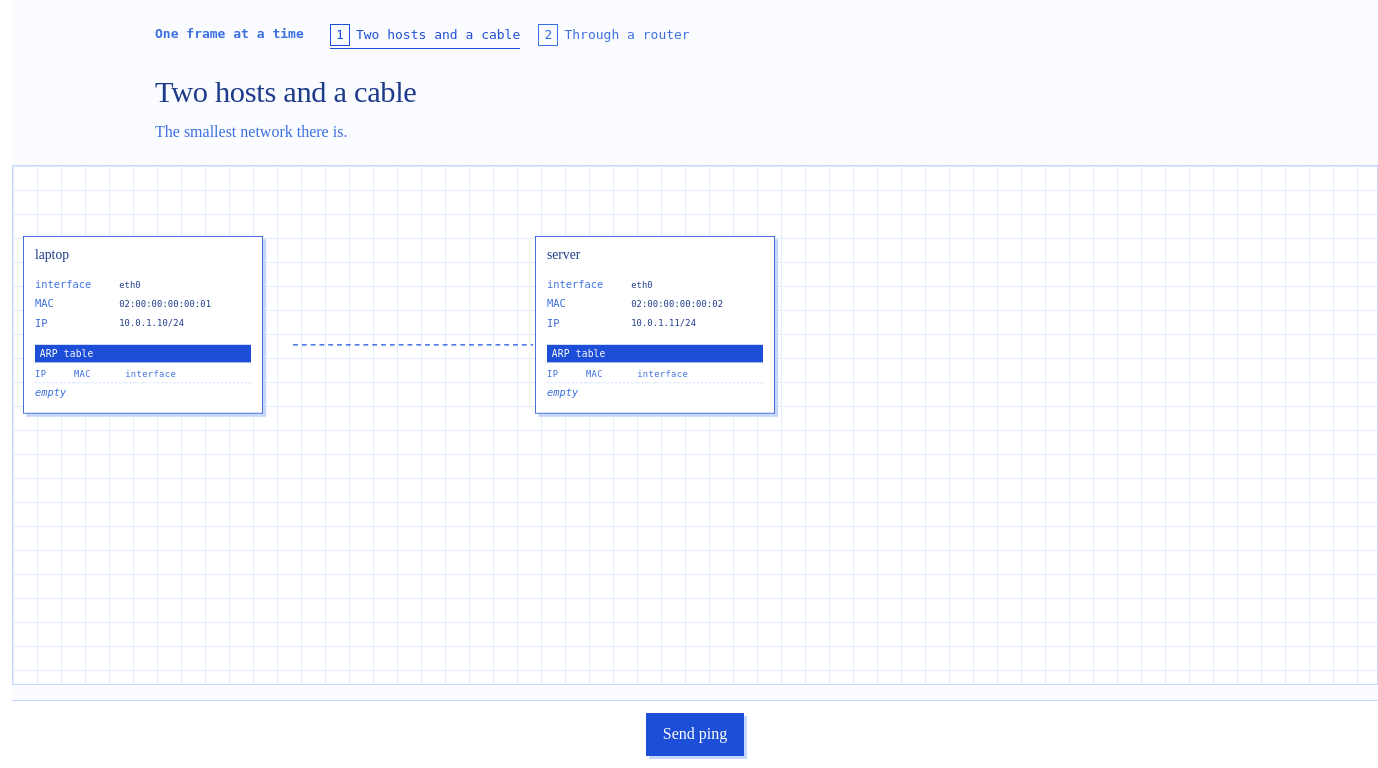
Test: lesson 1 › steps through turns with narration keyed by event kind
Click the button "Send ping" at {"x": 695, "y": 735}, box [646,713,744,756]
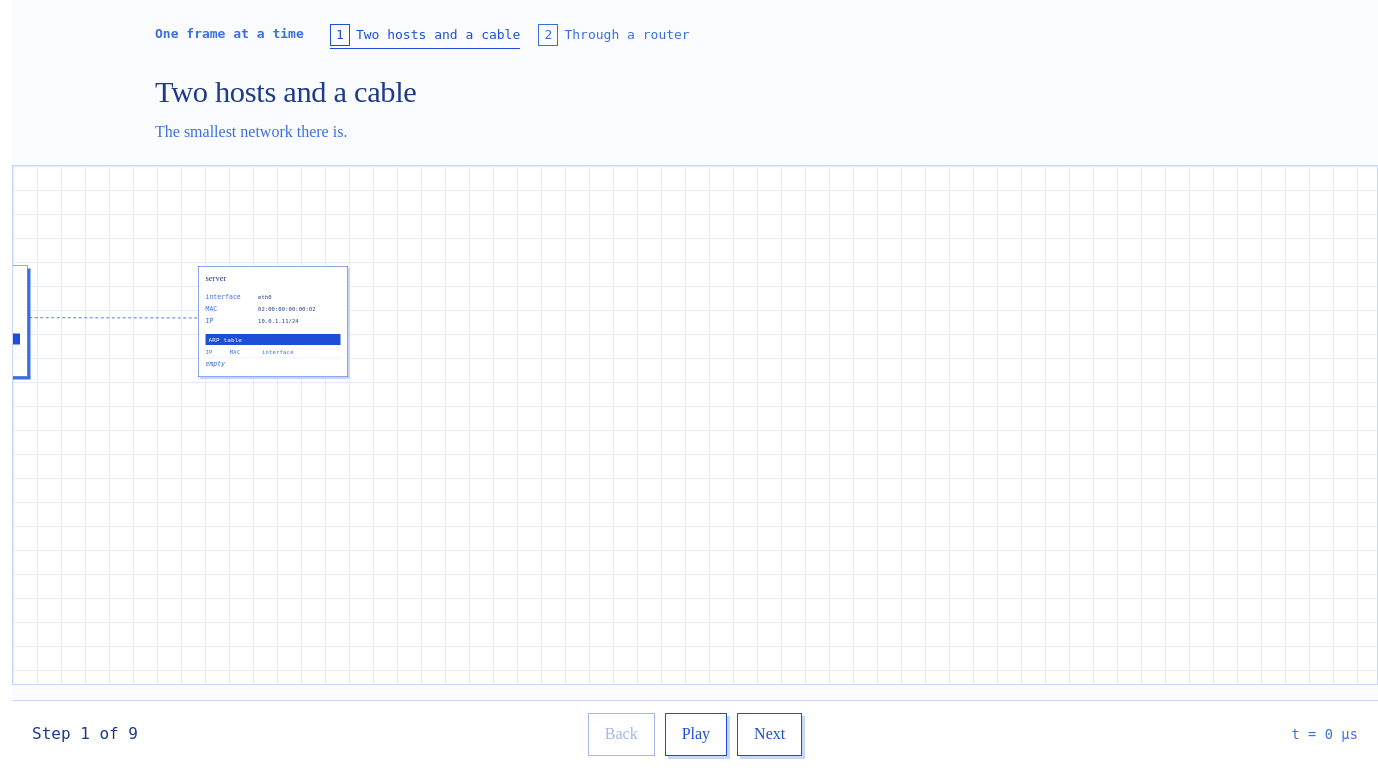
expect the text "Step 1 of 9" is shown: met, box [32,722,138,747]
Click the button "Next" at {"x": 770, "y": 735}, box [737,713,802,756]
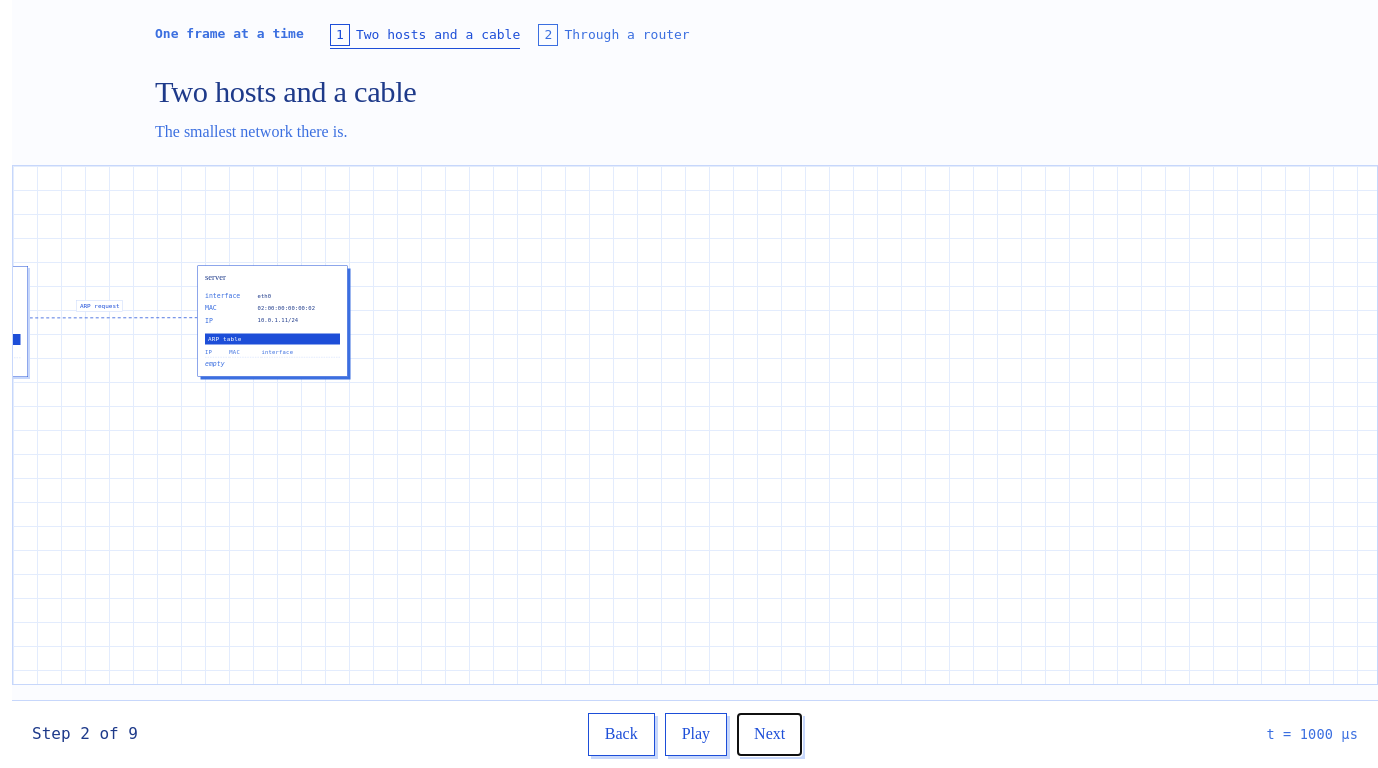
expect the text "Step 2 of 9" is shown: met, box [32,722,138,747]
Click the button "Back" at {"x": 621, "y": 735}, box [588,713,655,756]
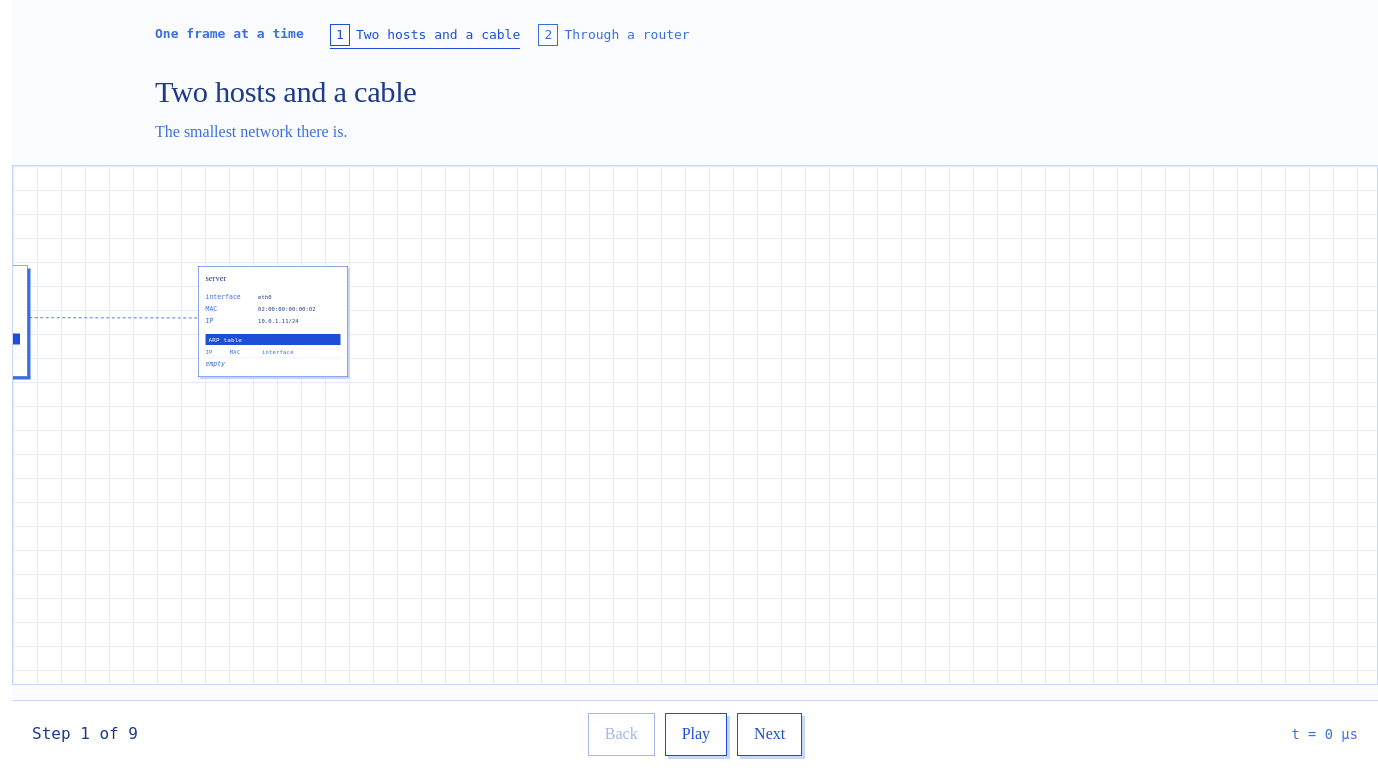
expect the text "Step 1 of 9" is shown: met, box [32,722,138,747]
expect the button "Back" is disabled: met, box [588,713,655,756]
